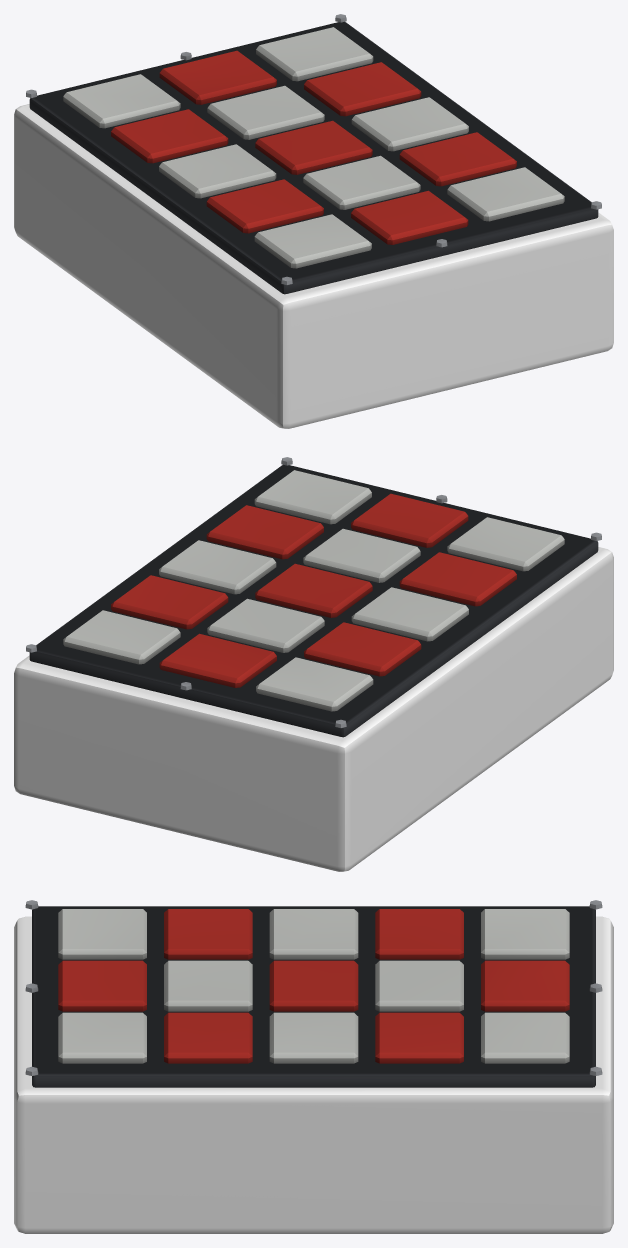
File: lanzasenuelos.glb
3 views of the same model, one above another, from view 1: azimuth 30°, elevation 25°; view 2: azimuth 150°, elevation 25°; view 3: azimuth 270°, elevation 25° (orthographic). The views are drawn at different scales.
Parts seen in each view (by area): view 1: cuerpo; view 2: cuerpo; view 3: cuerpo.
Boxes of the visible parts, box(x1,y1,x2,y2) form: cuerpo: box(14, 14, 613, 428); cuerpo: box(14, 457, 613, 871); cuerpo: box(14, 900, 613, 1233).
Size of the model in its own units: 0.3 by 0.129 by 0.42.
